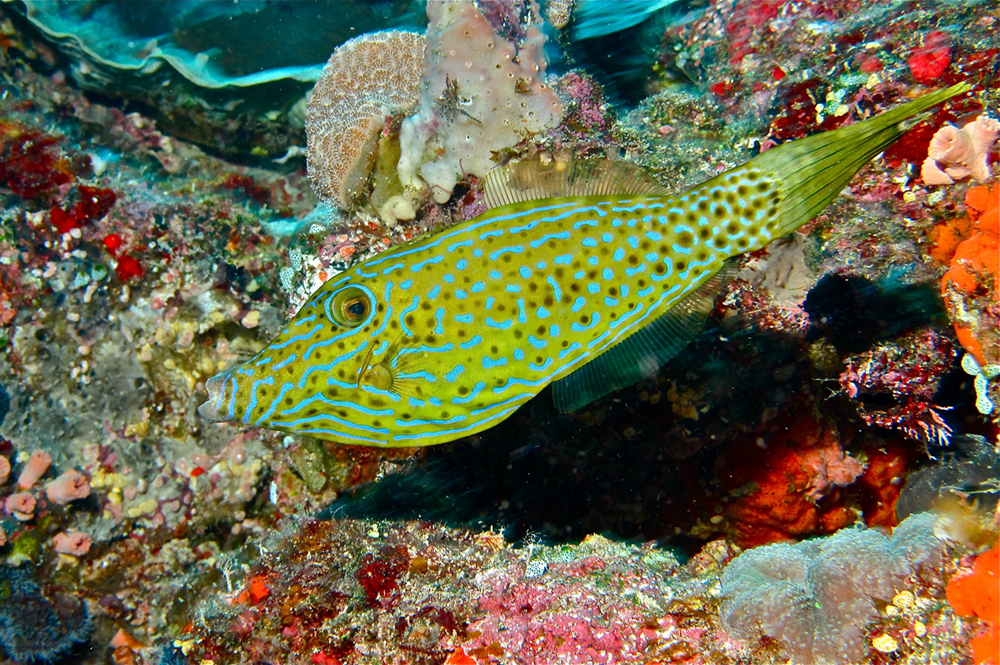Aluterus_scriptus: (206, 71, 975, 458)
